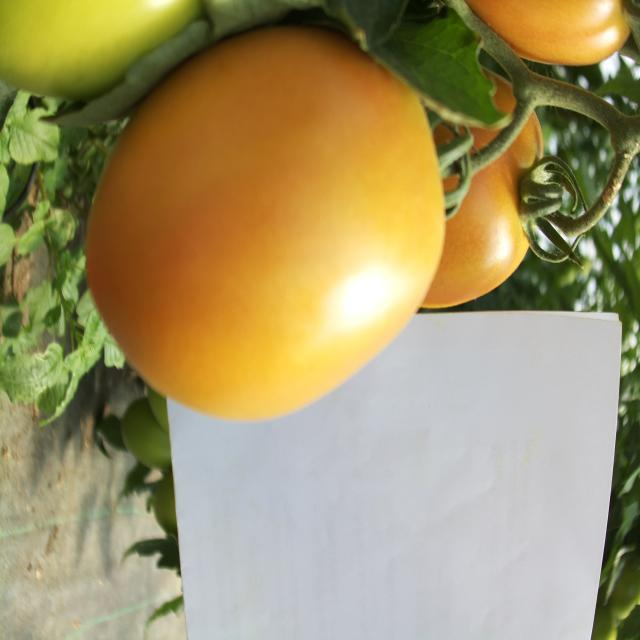sari: (100, 52, 460, 394)
